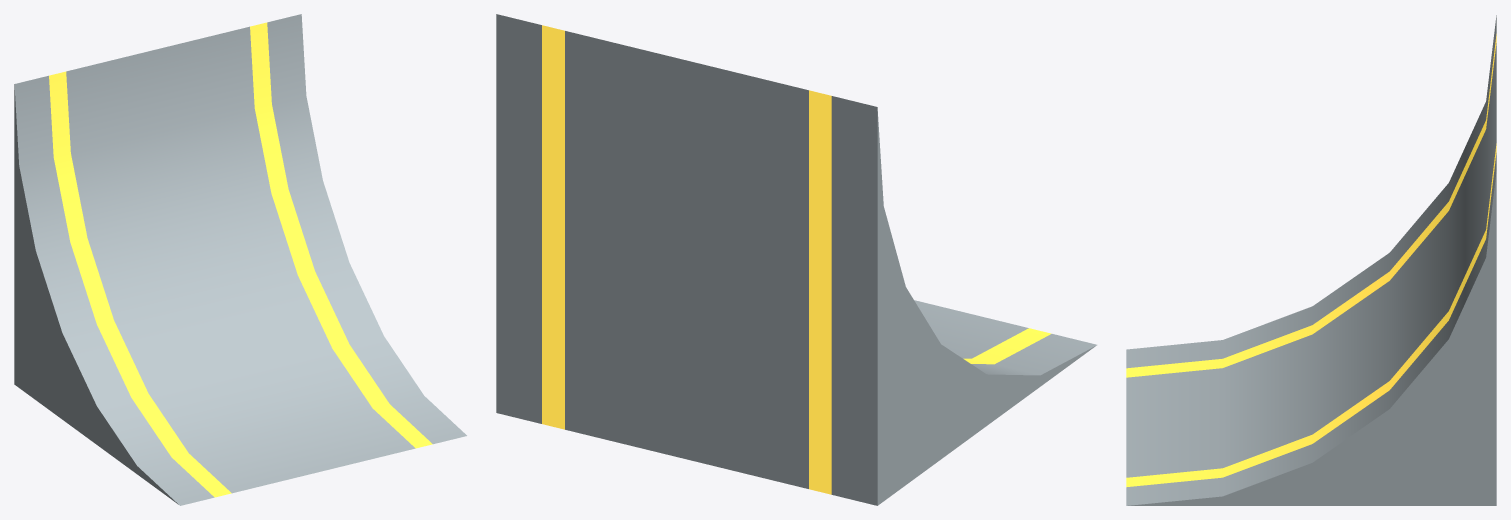
The model's file is SM_QuarterPipe_v0.fbx.
3 renders of one model, left to right at view 1: azimuth 30°, elevation 25°; view 2: azimuth 150°, elevation 25°; view 3: azimuth 270°, elevation 25°, orthographic. The views are drawn at different scales.
Parts seen in each view (by area): view 1: SM_QuarterPipe_v0; view 2: SM_QuarterPipe_v0; view 3: SM_QuarterPipe_v0.
Part boxes in pixels (box(x1,y1,x2,y2)): SM_QuarterPipe_v0: box(14, 14, 466, 505); SM_QuarterPipe_v0: box(496, 14, 1096, 505); SM_QuarterPipe_v0: box(1126, 15, 1496, 505).
Bounding box in the file's own units: 1 × 1 × 1.
